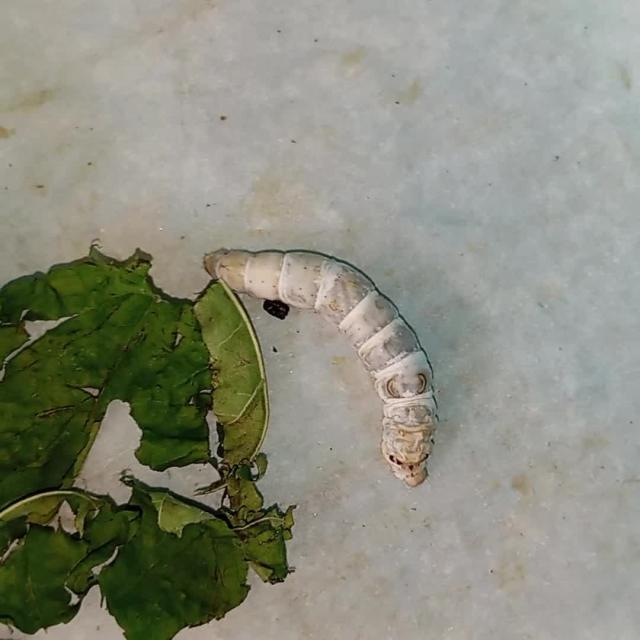Grasserie: (169, 208, 487, 503)
